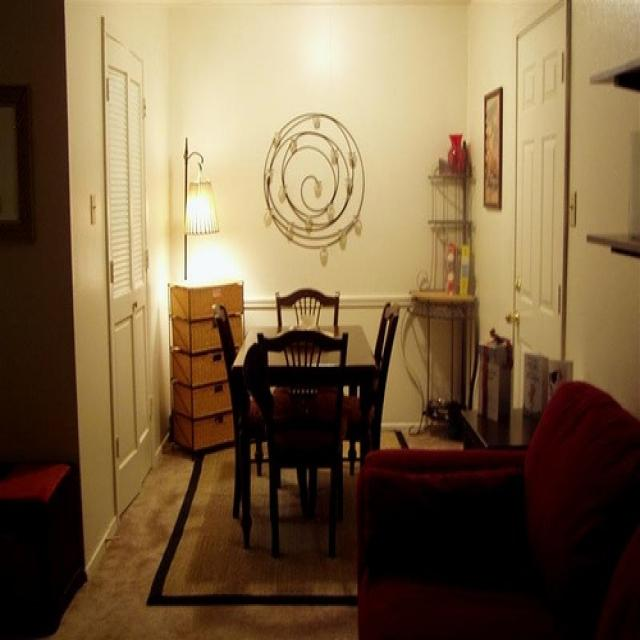chair: (250, 328, 346, 560), (210, 302, 244, 519), (371, 302, 401, 449), (272, 288, 341, 322)
diningtable: (233, 317, 380, 543)
sofa: (354, 379, 638, 638)
